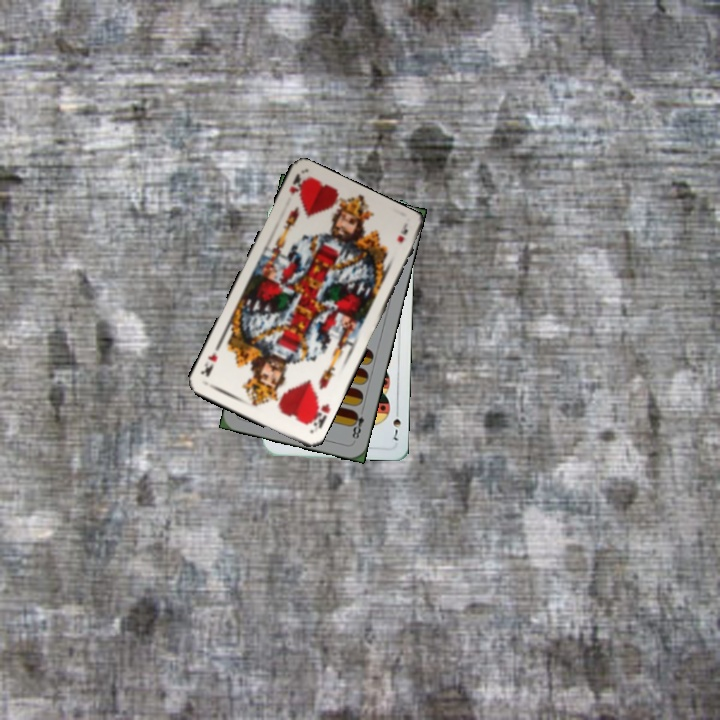E8: (347, 404, 367, 442)
HK: (304, 396, 333, 431), (285, 171, 309, 198)
S7: (389, 404, 403, 443)
